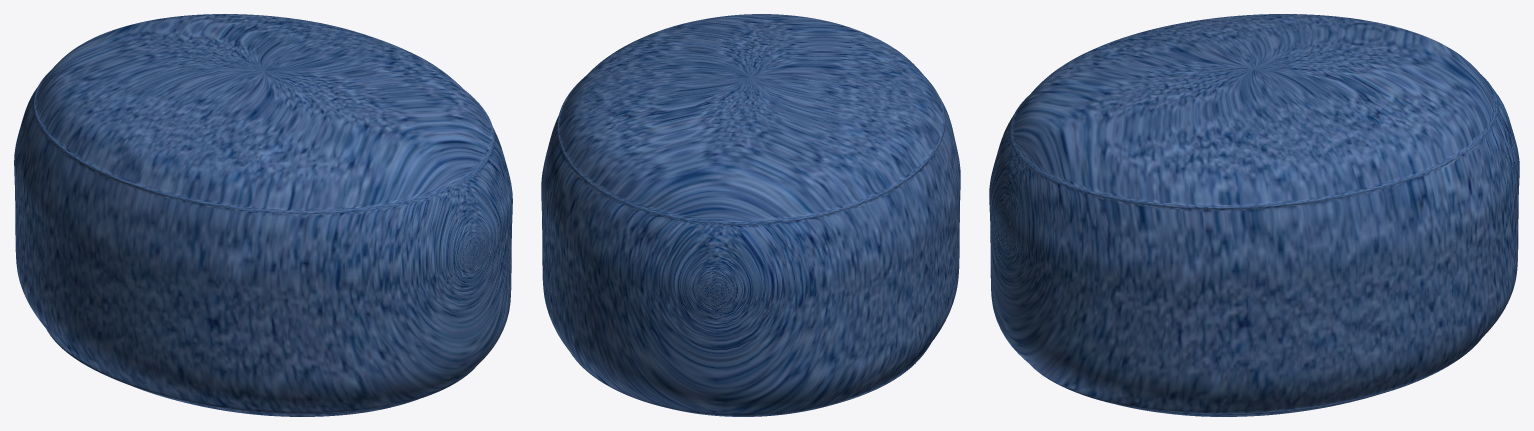
File: ZacatecasChico.gltf
3 views of the same model, side by side, from view 1: azimuth 30°, elevation 25°; view 2: azimuth 150°, elevation 25°; view 3: azimuth 270°, elevation 25° (orthographic). The views are drawn at different scales.
Visible parts, largest first — view 1: Cylinder.002; view 2: Cylinder.002; view 3: Cylinder.002.
Boxes of the visible parts, x1,y1,x2,y2 form: Cylinder.002: [14, 14, 512, 416]; Cylinder.002: [541, 14, 960, 416]; Cylinder.002: [989, 14, 1519, 416].
Size of the model in its own units: 2.33 by 1.65 by 2.68.
